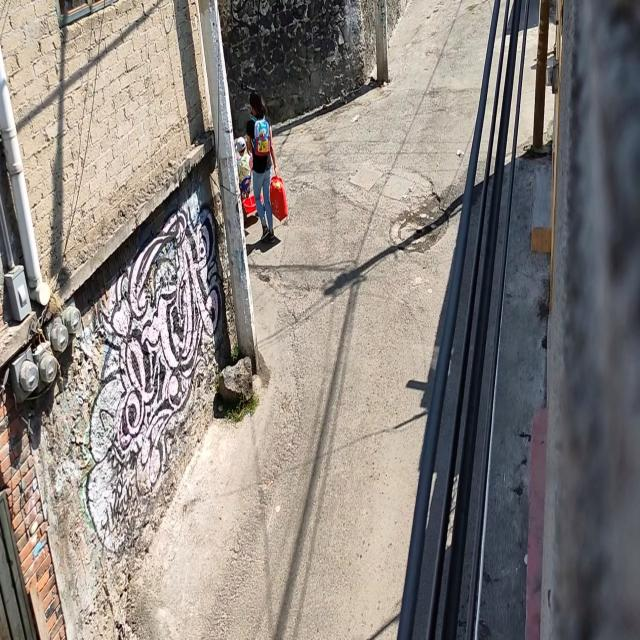adult: (247, 87, 278, 245)
